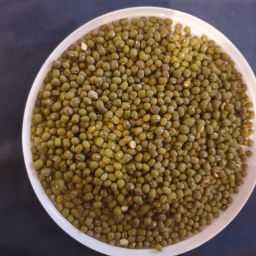Green gram dal(moong): (28, 15, 256, 256), (176, 35, 232, 228), (83, 139, 226, 212), (79, 46, 218, 115), (119, 53, 165, 235), (55, 77, 107, 205)
